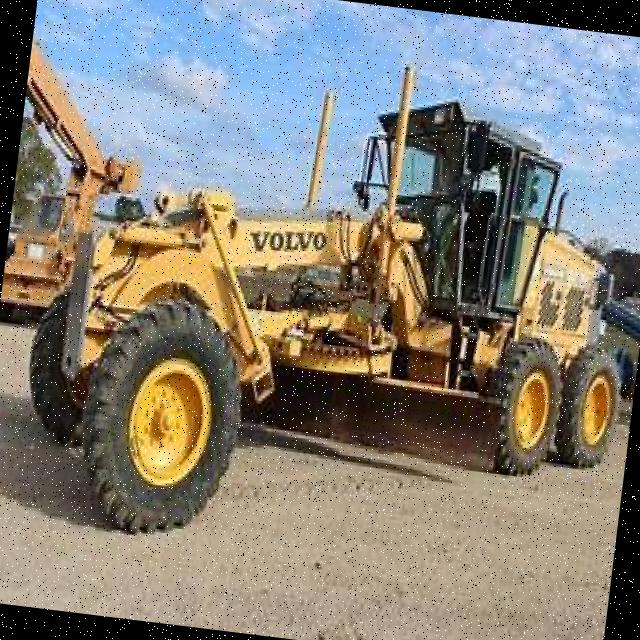Grader: (3, 30, 640, 589)
